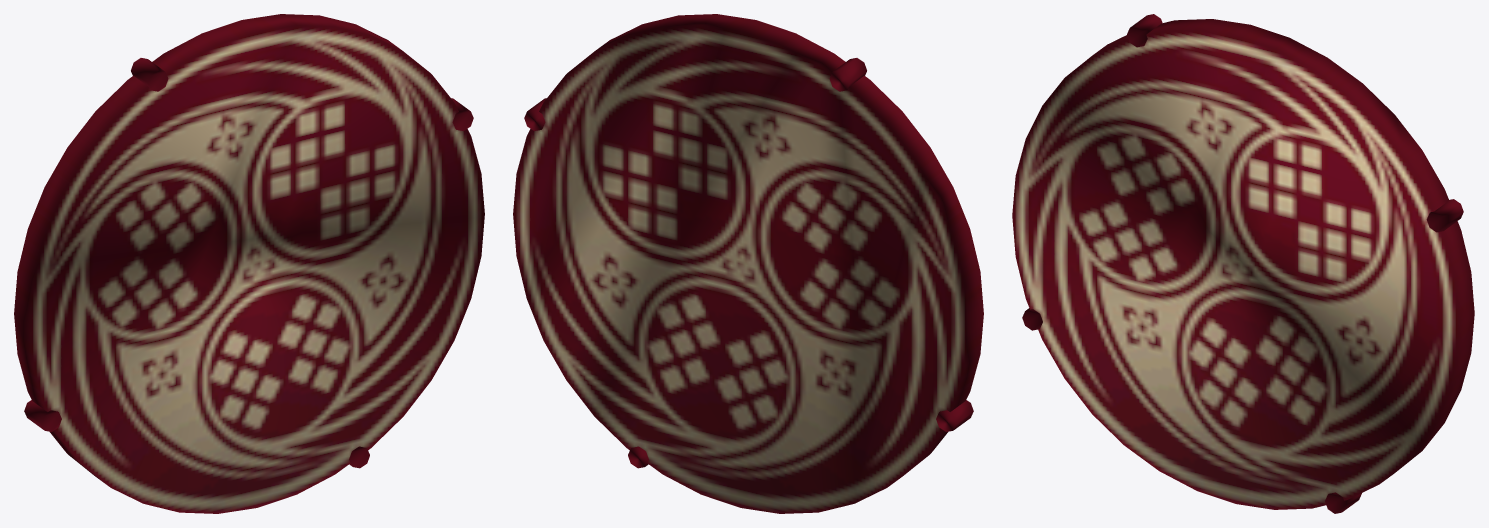
The model's file is SAVE.ICO.obj.
The picture shows the model from 3 angles, left to right: view 1: azimuth 30°, elevation 25°; view 2: azimuth 150°, elevation 25°; view 3: azimuth 330°, elevation 25°; orthographic projection.
Size of the model in its own units: 3.9 by 3.9 by 0.2603.
1 material, 1 textured.
